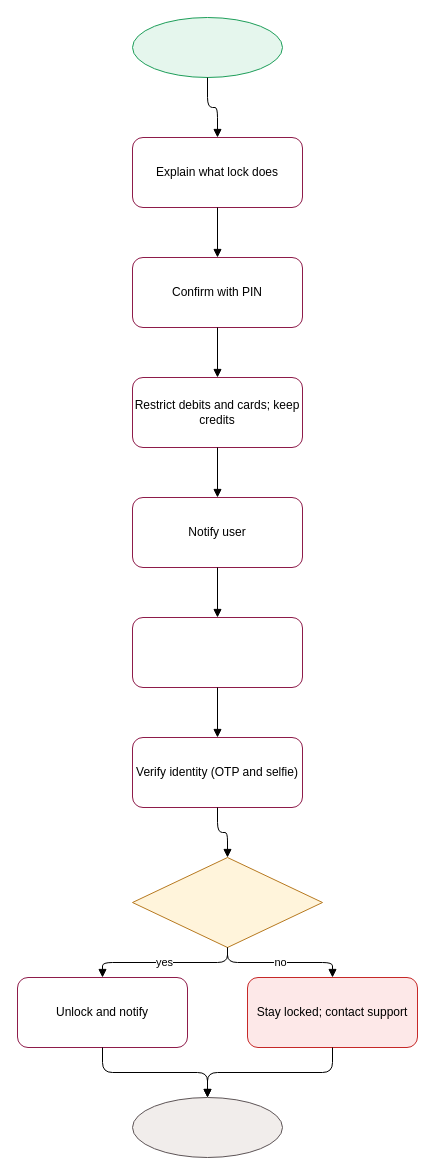
The diagram is 435 pixels wide and 1175 high, and some of its shapes have lost their labels. Each missing label, with the centre of its shape:
"Done" goes at [207,1127].
"Later: user starts unlock" goes at [217,652].
"More > Security > Lock my account" goes at [207,47].
"Verified?" goes at [227,902].
